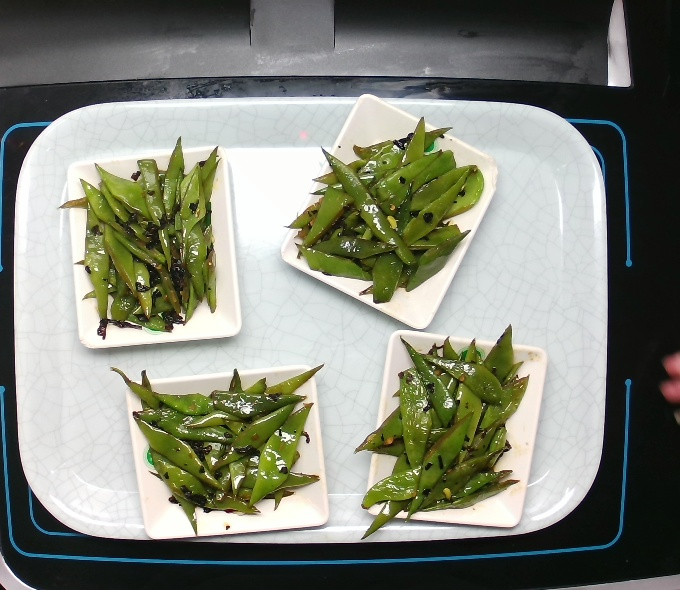wcq-ChaoSiJiDou: (280, 114, 488, 309), (352, 320, 533, 544), (108, 359, 326, 533), (56, 131, 222, 340)
